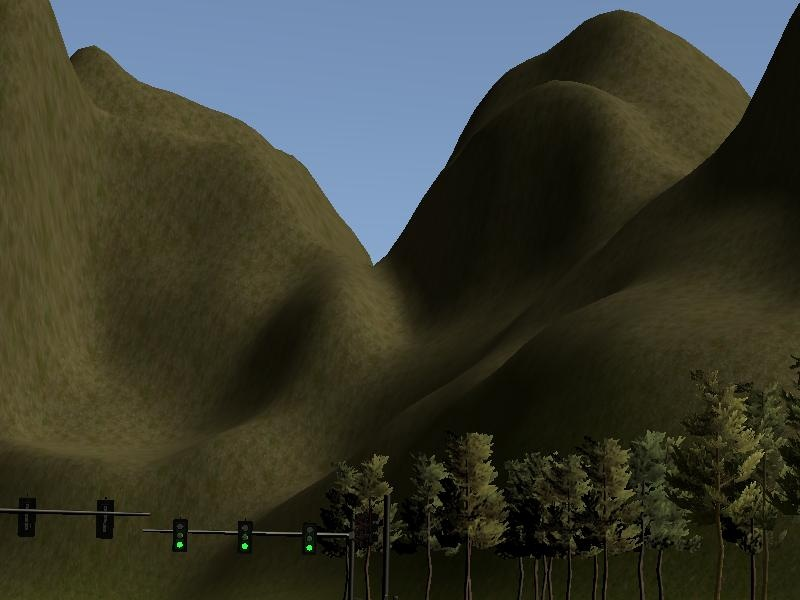green: (169, 517, 190, 553), (236, 521, 254, 558), (303, 518, 318, 558)
